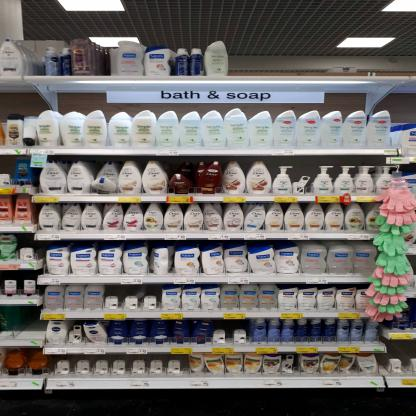Void: (231, 42, 412, 74), (50, 356, 189, 375), (103, 288, 161, 312), (10, 307, 37, 340), (390, 342, 414, 373)
